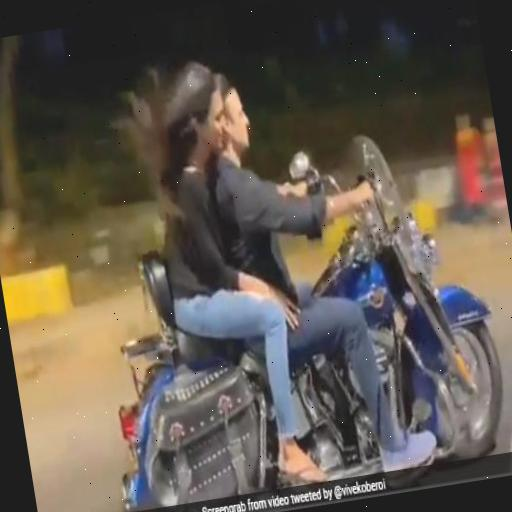no helmet: (204, 28, 496, 510)
